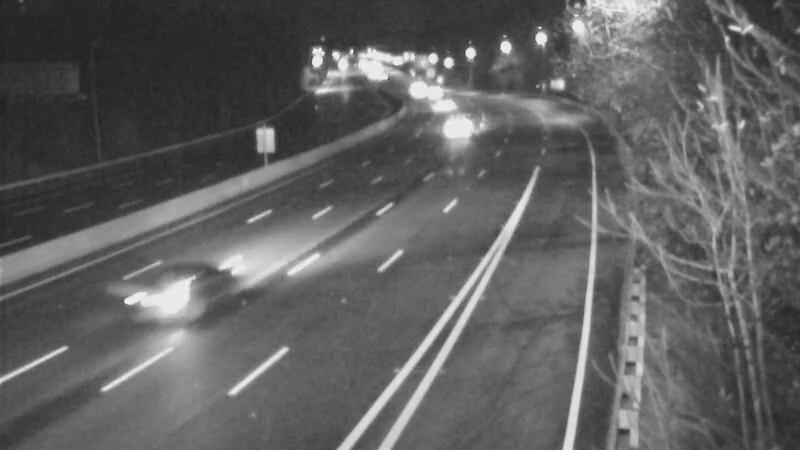vehicle: (124, 259, 204, 339), (381, 64, 431, 114), (411, 69, 461, 119), (418, 82, 468, 132), (431, 101, 481, 151)
